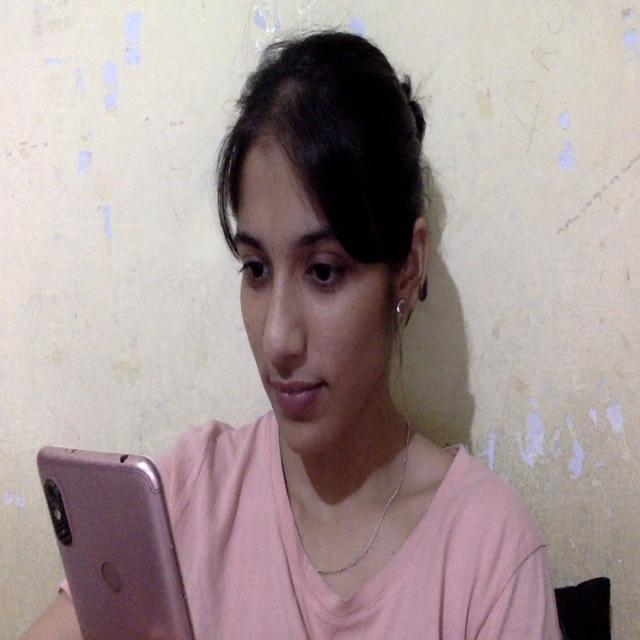Phone: (35, 443, 195, 639)
